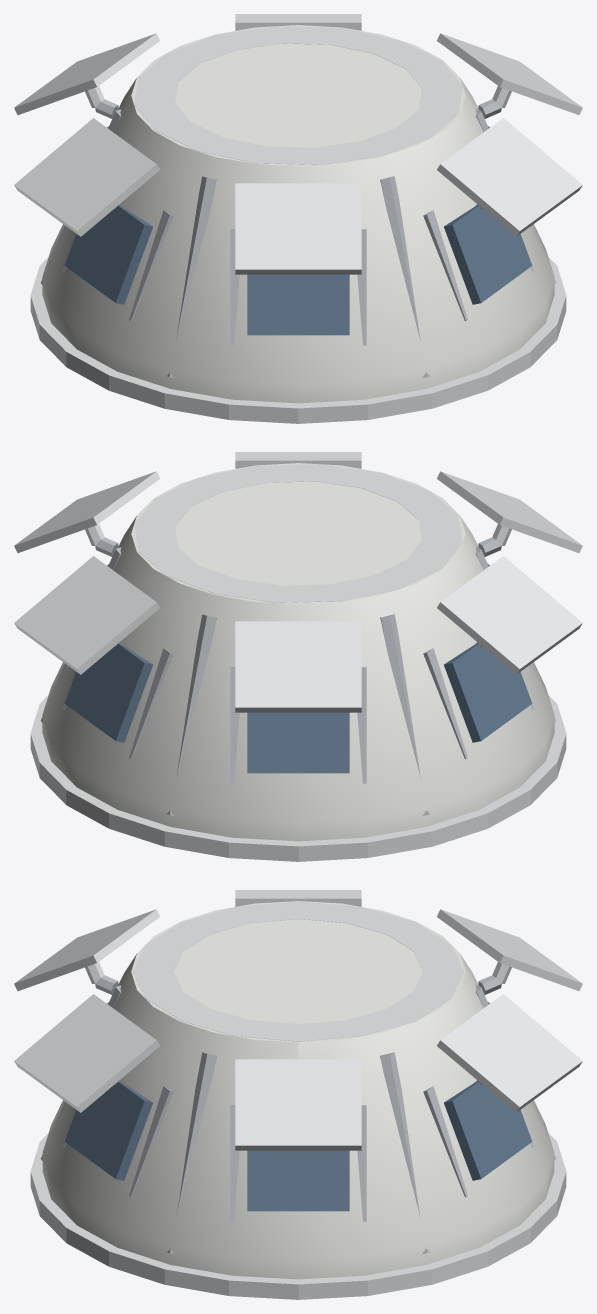
Rendered from orbital-station-and-docking-bays-cupola-observation-mo-9b2001eb__24532.glb.
The picture shows the model from 3 angles, top to bottom: view 1: azimuth 30°, elevation 25°; view 2: azimuth 150°, elevation 25°; view 3: azimuth 270°, elevation 25°; orthographic projection.
Parts seen in each view (by area): view 1: cupola-observation-module, shutter-3, shutter-4, shutter-2, shutter-5, shutter-1, shutter-6; view 2: cupola-observation-module, shutter-5, shutter-4, shutter-6, shutter-3, shutter-1, shutter-2; view 3: cupola-observation-module, shutter-1, shutter-2, shutter-6, shutter-3, shutter-5, shutter-4.
Boxes of the visible parts, x1,y1,x2,y2 form: cupola-observation-module: [30, 25, 566, 423]; shutter-3: [235, 183, 361, 274]; shutter-4: [14, 118, 159, 236]; shutter-2: [437, 118, 582, 236]; shutter-5: [14, 33, 159, 114]; shutter-1: [437, 33, 582, 114]; shutter-6: [235, 14, 361, 30]; cupola-observation-module: [30, 463, 566, 861]; shutter-5: [235, 621, 361, 712]; shutter-4: [437, 556, 582, 674]; shutter-6: [14, 556, 159, 674]; shutter-3: [437, 471, 582, 552]; shutter-1: [14, 471, 159, 552]; shutter-2: [235, 452, 361, 468]; cupola-observation-module: [30, 901, 566, 1299]; shutter-1: [235, 1059, 361, 1150]; shutter-2: [14, 994, 159, 1112]; shutter-6: [437, 994, 582, 1112]; shutter-3: [14, 909, 159, 990]; shutter-5: [437, 909, 582, 990]; shutter-4: [235, 890, 361, 906].
Size of the model in its own units: 3.42 by 1.5 by 3.33.
